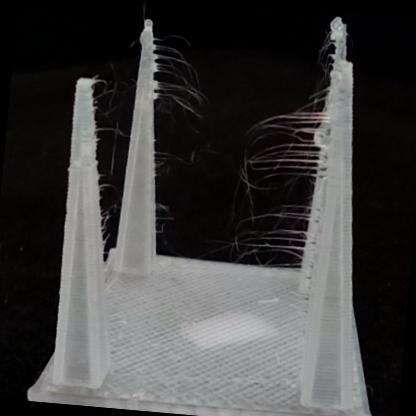fail: (232, 42, 331, 271), (144, 22, 218, 136)
